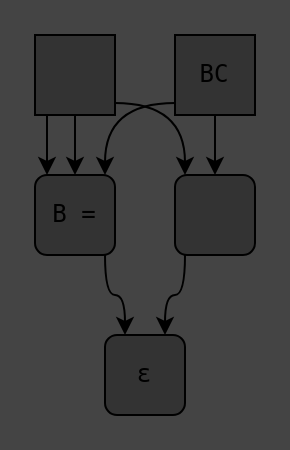
This 290x450 diagram has some shape labels left out. The centre of each missing label's shape, as x and y in pixels:
"BBC" belongs at pixel 74 74.
"C =" belongs at pixel 214 214.
